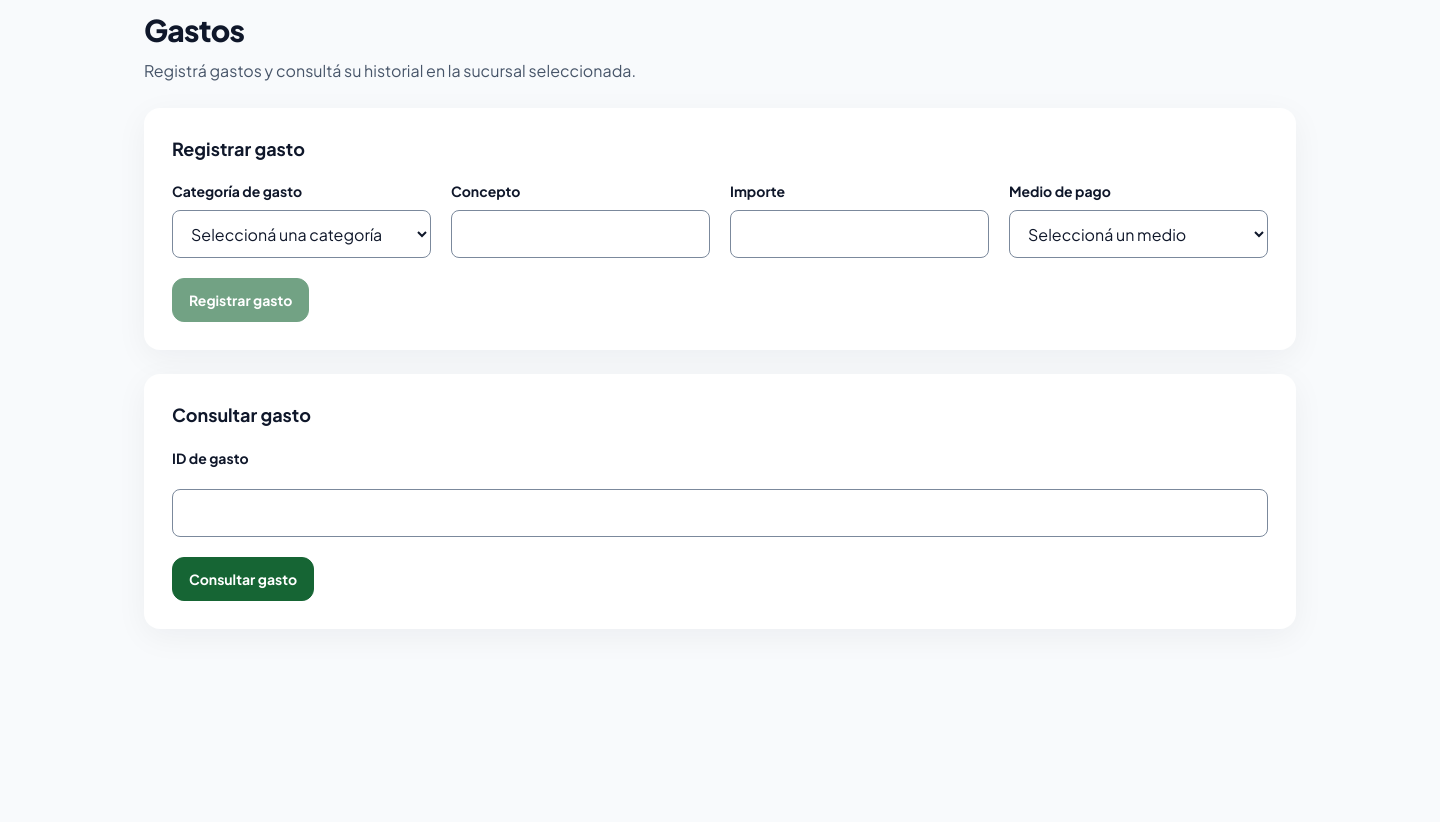
Test: T173B shows actionable cash error without clearing the form
Select "Servicios" in the dropdown labelled "Categoría de gasto" at (302, 234), box [172, 210, 431, 258]
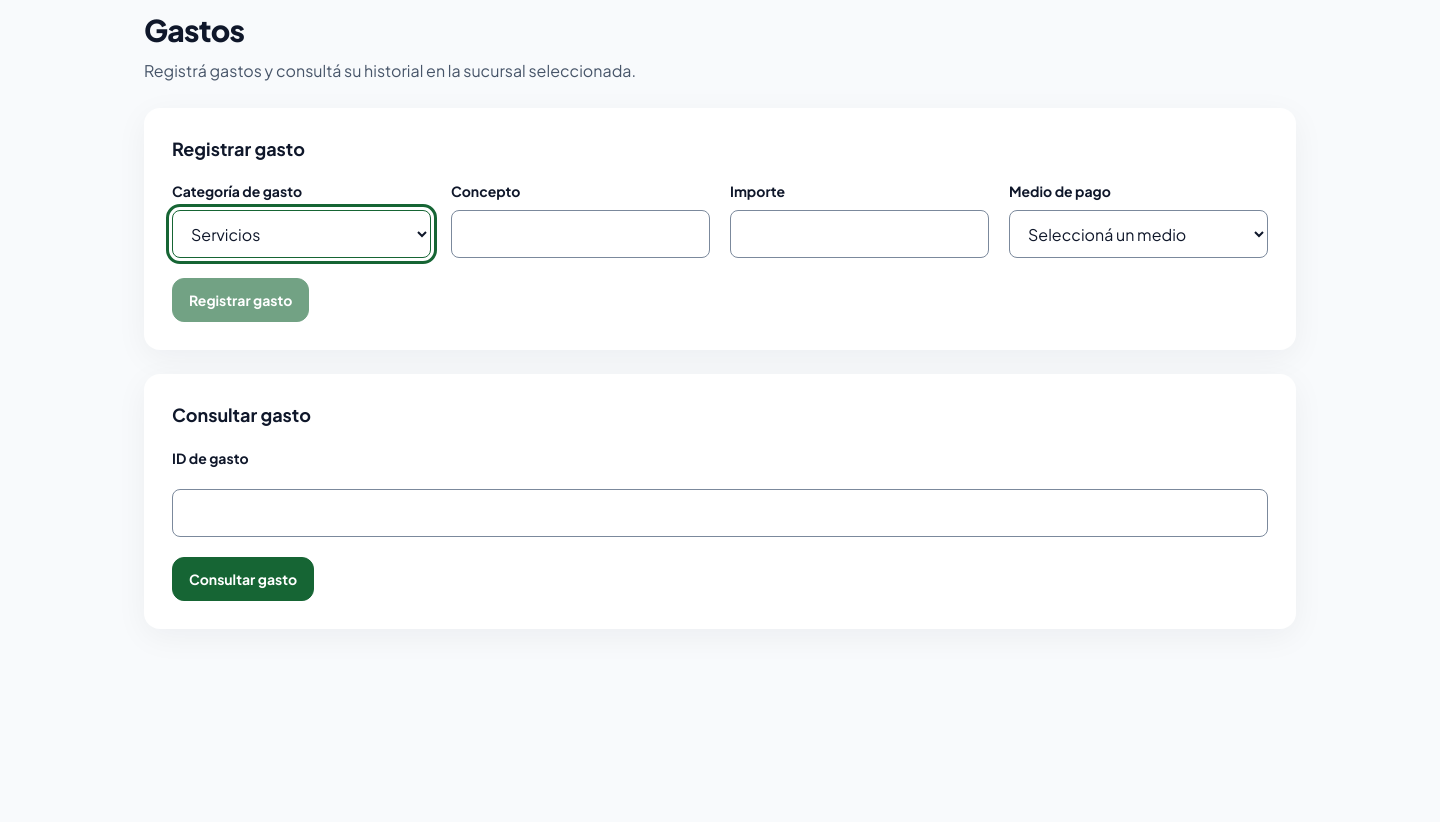
Type "Luz" into the field labelled "Concepto" at (580, 234), box [451, 210, 710, 258]
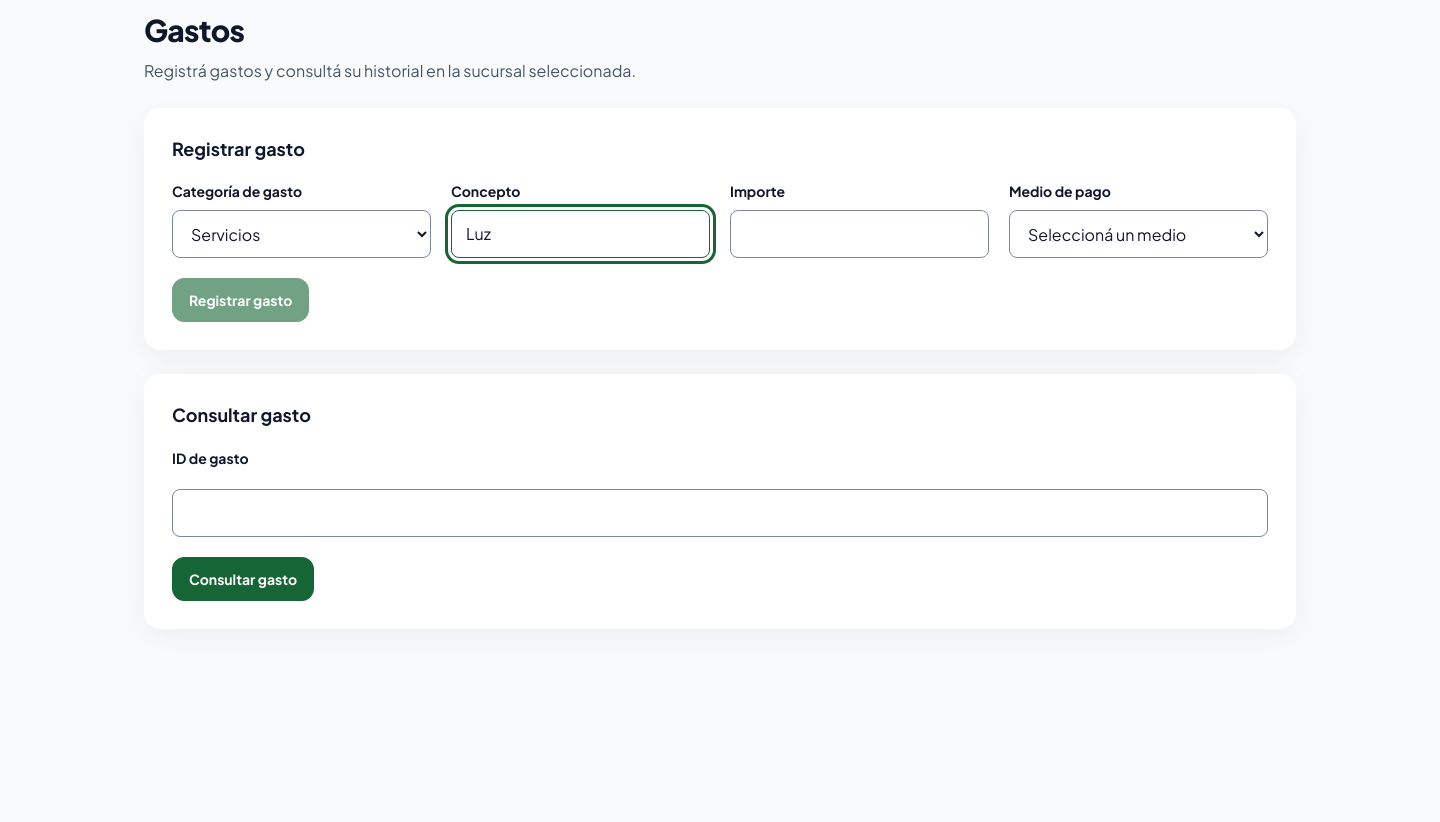
Type "2.00" into the field labelled "Importe" at (860, 234), box [730, 210, 989, 258]
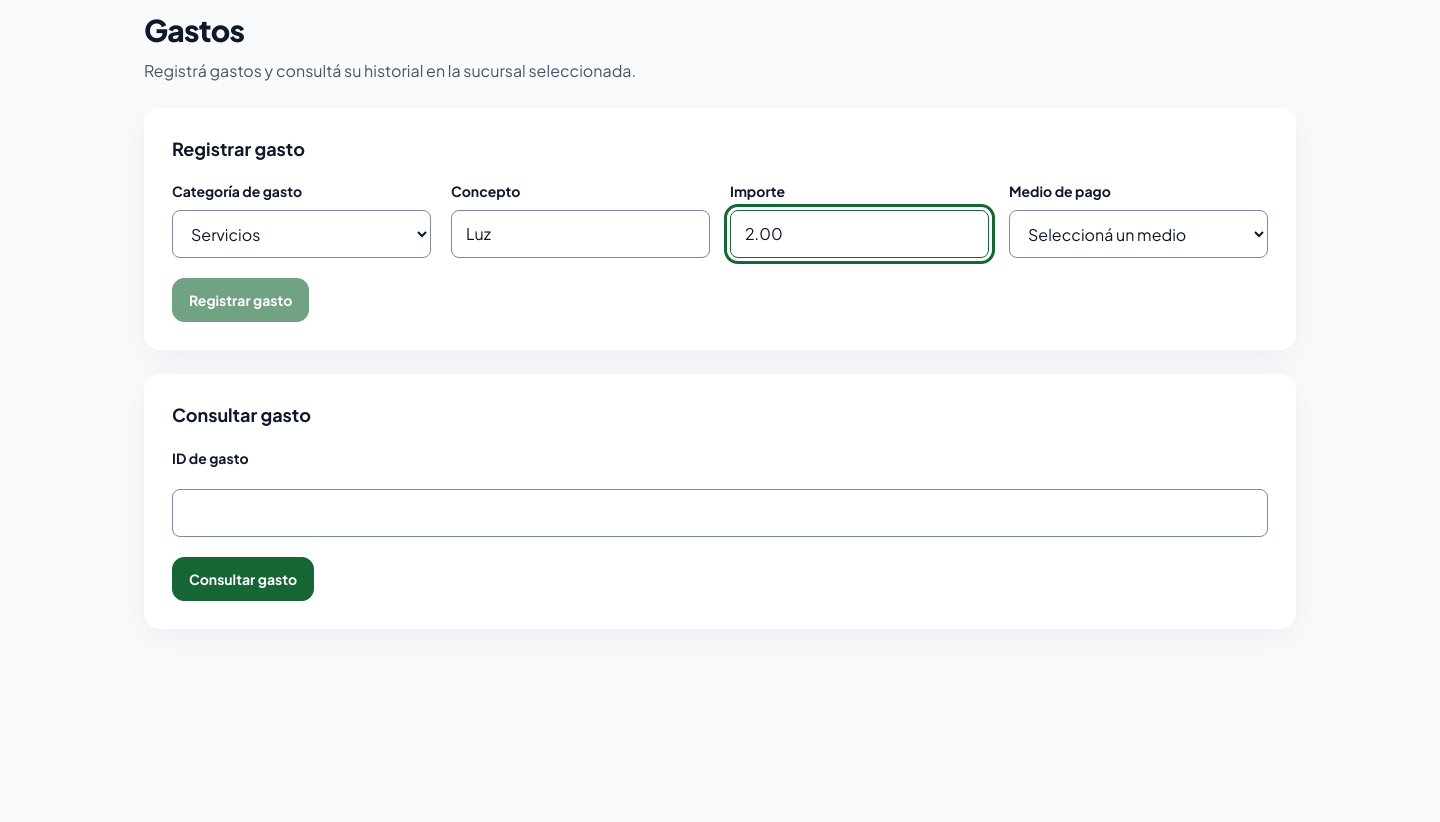
Select "CASH" in the dropdown labelled "Medio de pago" at (1138, 234), box [1009, 210, 1268, 258]
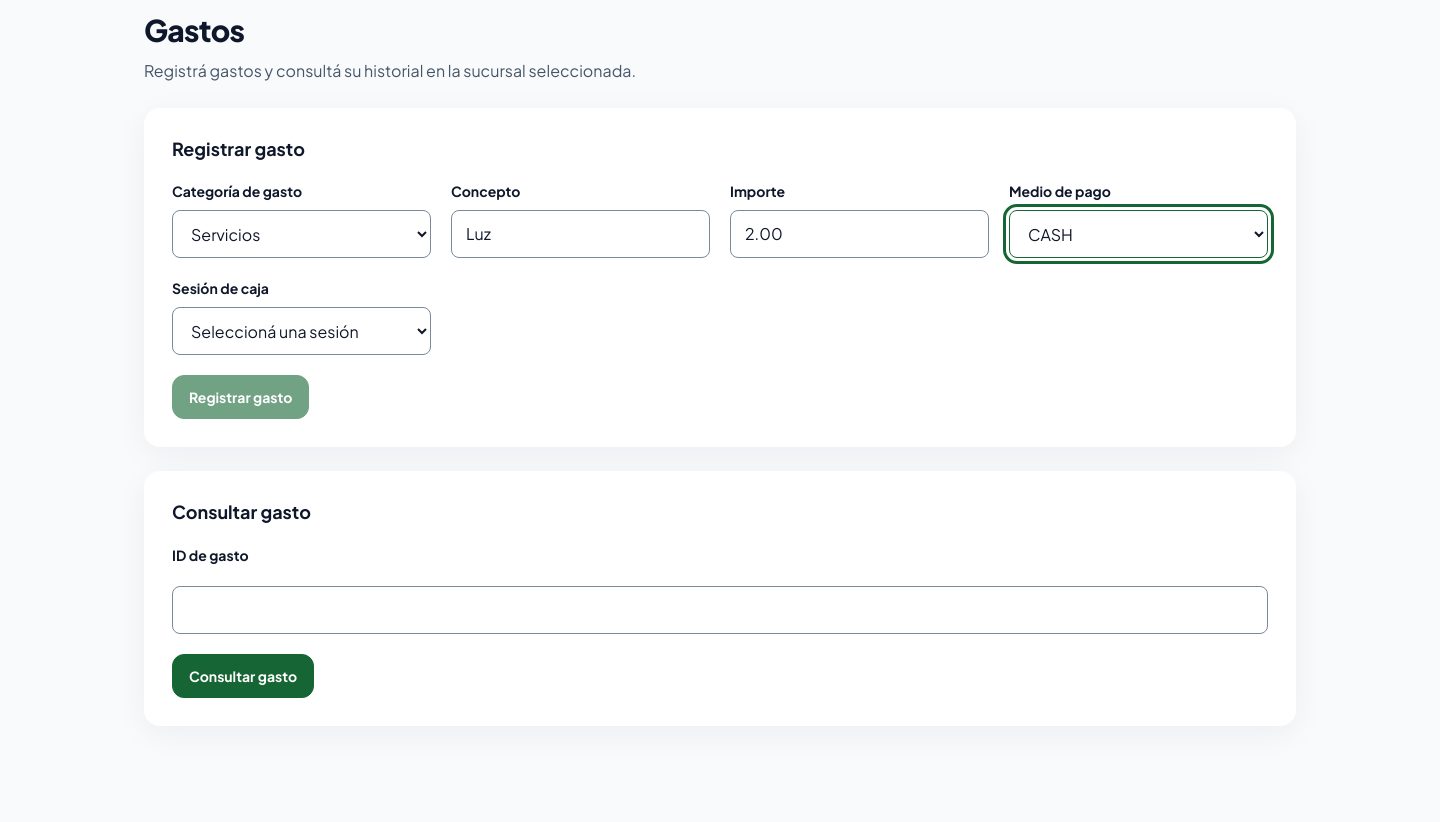
Select "Caja" in the dropdown labelled "Sesión de caja" at (302, 332), box [172, 308, 431, 356]
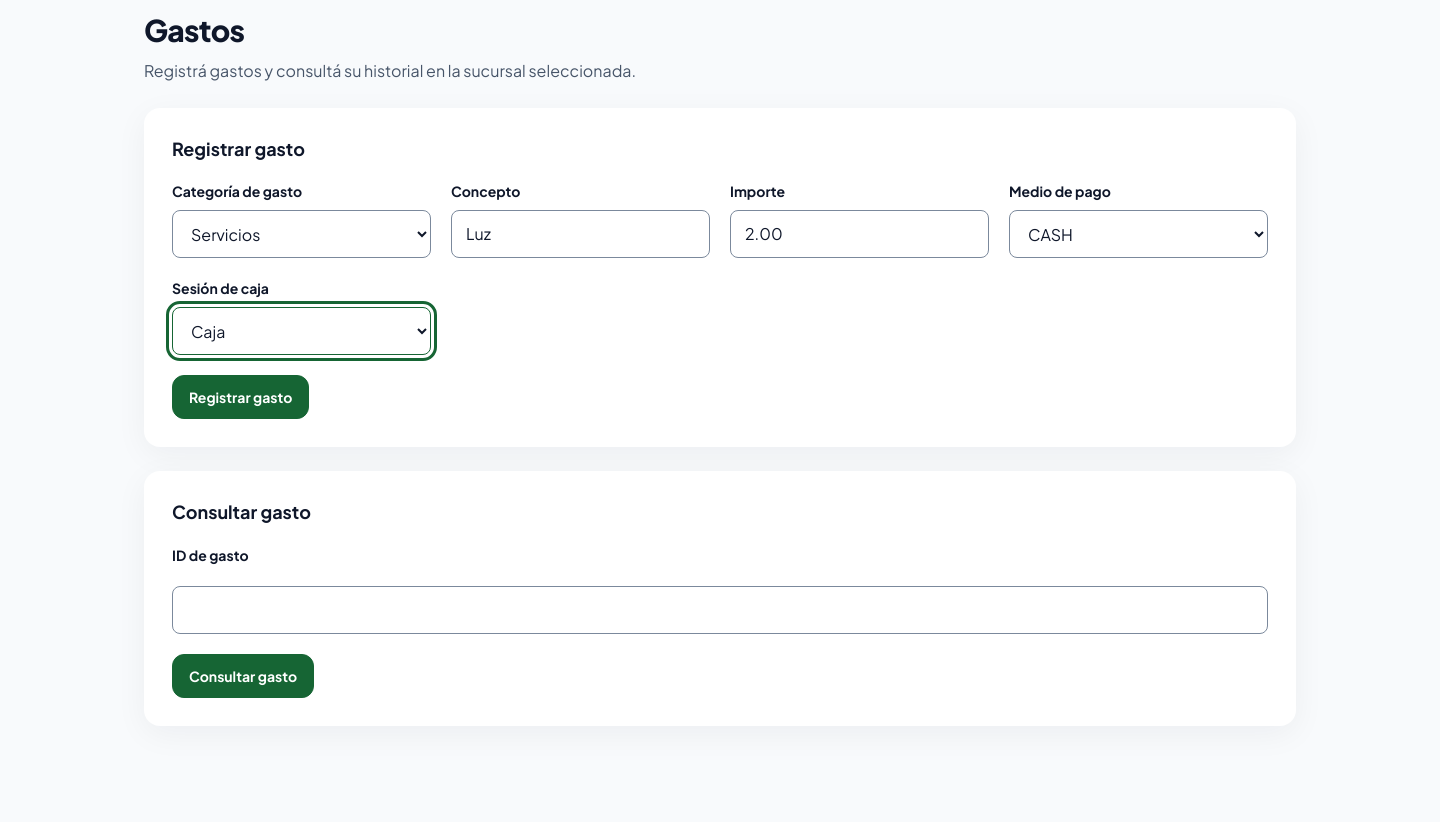
Click the button "Registrar gasto" at (241, 398), box [172, 376, 309, 420]
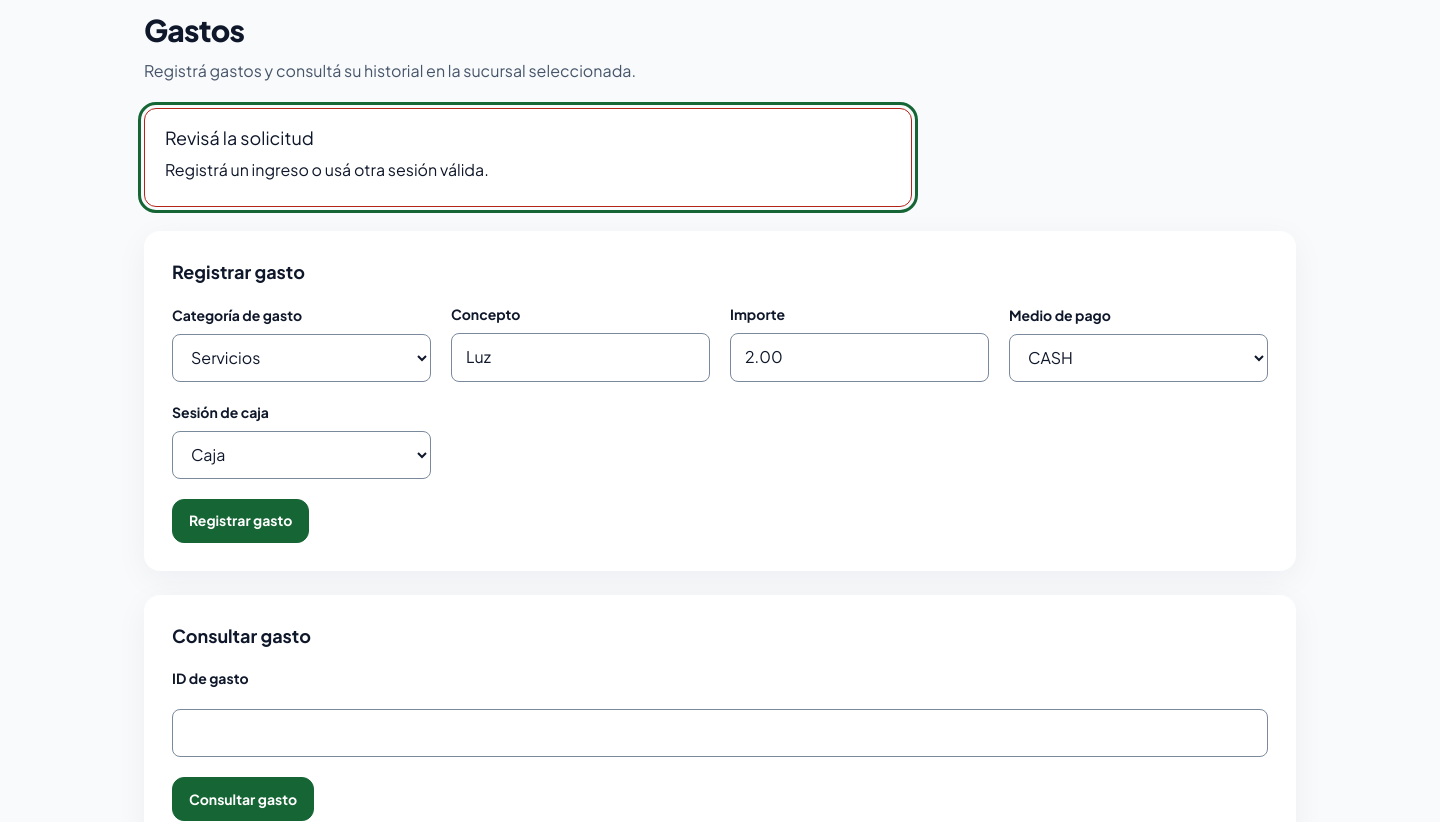
Expected: the text "Registrá un ingreso o usá otra sesión válida." is shown, [165, 159, 489, 180]
